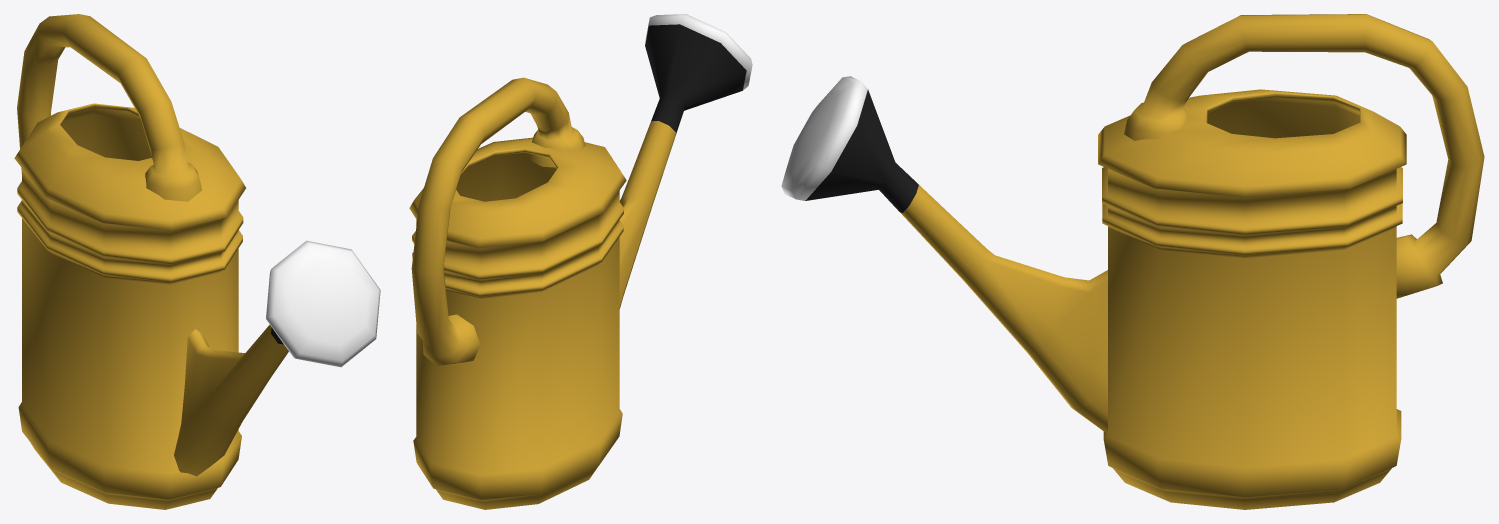
File: watering can.fbx
3 views of the same model, side by side, from view 1: azimuth 30°, elevation 25°; view 2: azimuth 150°, elevation 25°; view 3: azimuth 270°, elevation 25° (orthographic). The views are drawn at different scales.
Visible parts, largest first — view 1: Container_WateringCan_Yellow; view 2: Container_WateringCan_Yellow; view 3: Container_WateringCan_Yellow.
Boxes of the visible parts, x1=… form: Container_WateringCan_Yellow: x1=14, y1=14, x2=380, y2=509; Container_WateringCan_Yellow: x1=409, y1=14, x2=752, y2=509; Container_WateringCan_Yellow: x1=781, y1=14, x2=1484, y2=509.
Bounding box in the file's own units: 18.82 × 41.64 × 58.18.
1 material, 1 textured.
